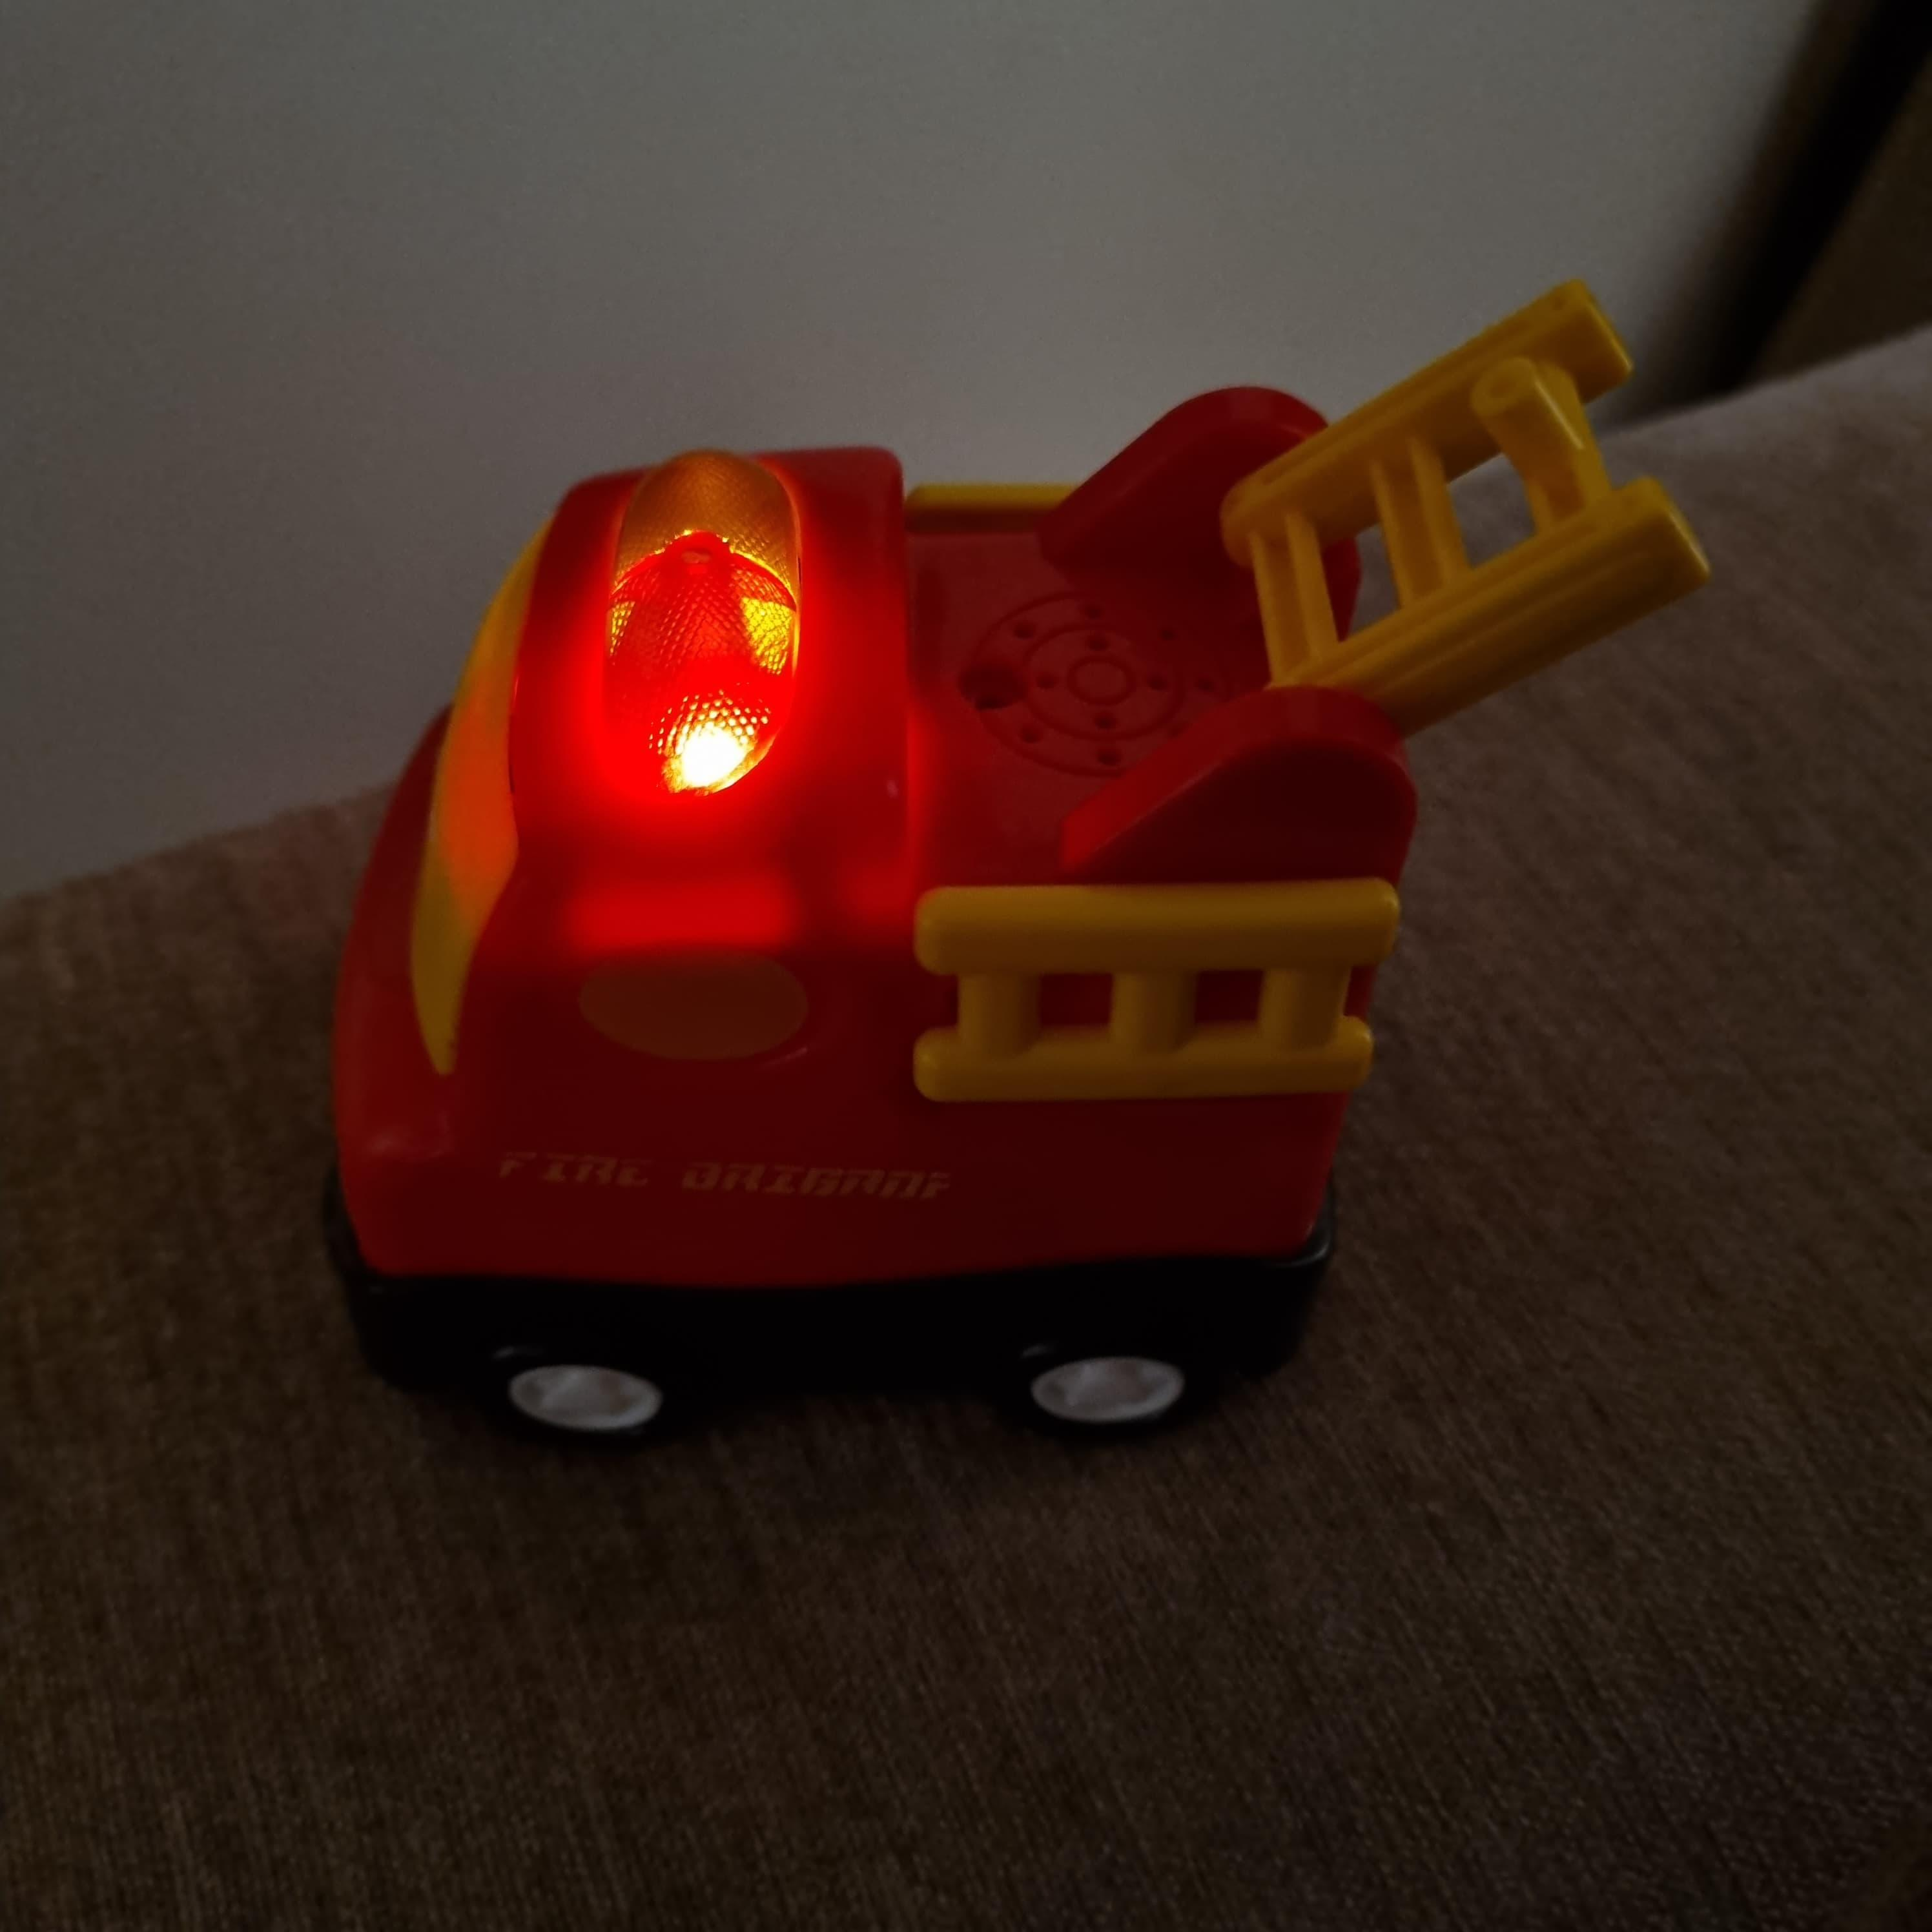firetruck_on: (317, 281, 1716, 1477)
